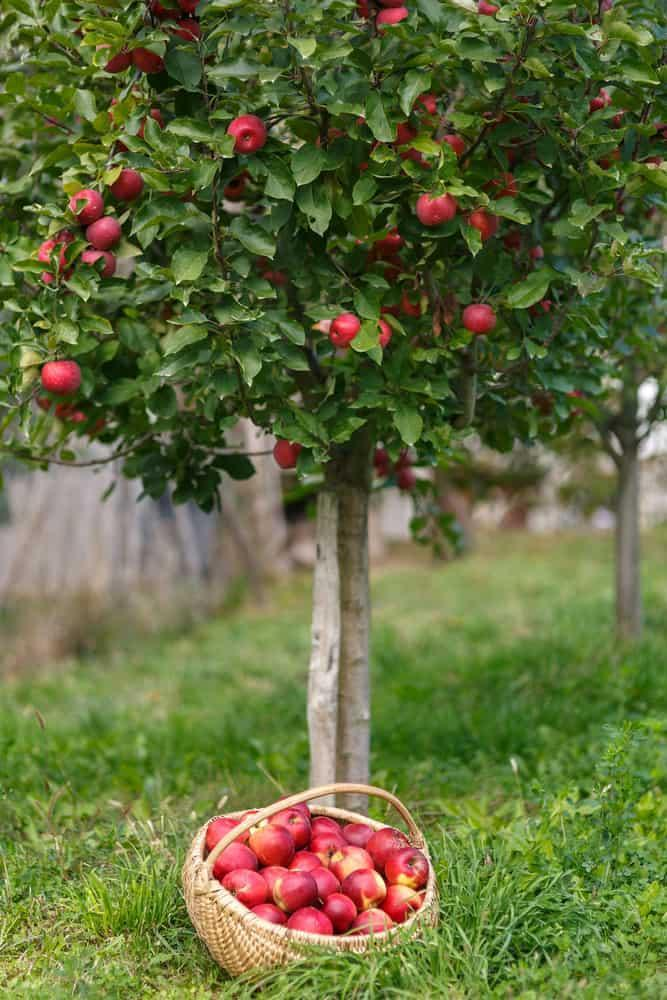apple: (245, 822, 295, 866), (272, 869, 320, 911), (221, 867, 271, 906), (212, 842, 259, 883), (366, 828, 412, 868), (385, 848, 430, 887), (341, 868, 386, 907), (225, 113, 266, 154), (267, 808, 308, 848), (288, 907, 333, 939), (383, 886, 423, 921), (414, 192, 456, 225), (39, 359, 79, 393), (310, 831, 349, 864), (84, 215, 120, 250), (70, 187, 103, 224), (330, 846, 374, 873), (207, 818, 246, 848), (107, 168, 142, 201), (328, 313, 360, 345), (461, 304, 495, 333), (467, 210, 496, 240), (287, 851, 316, 872)
